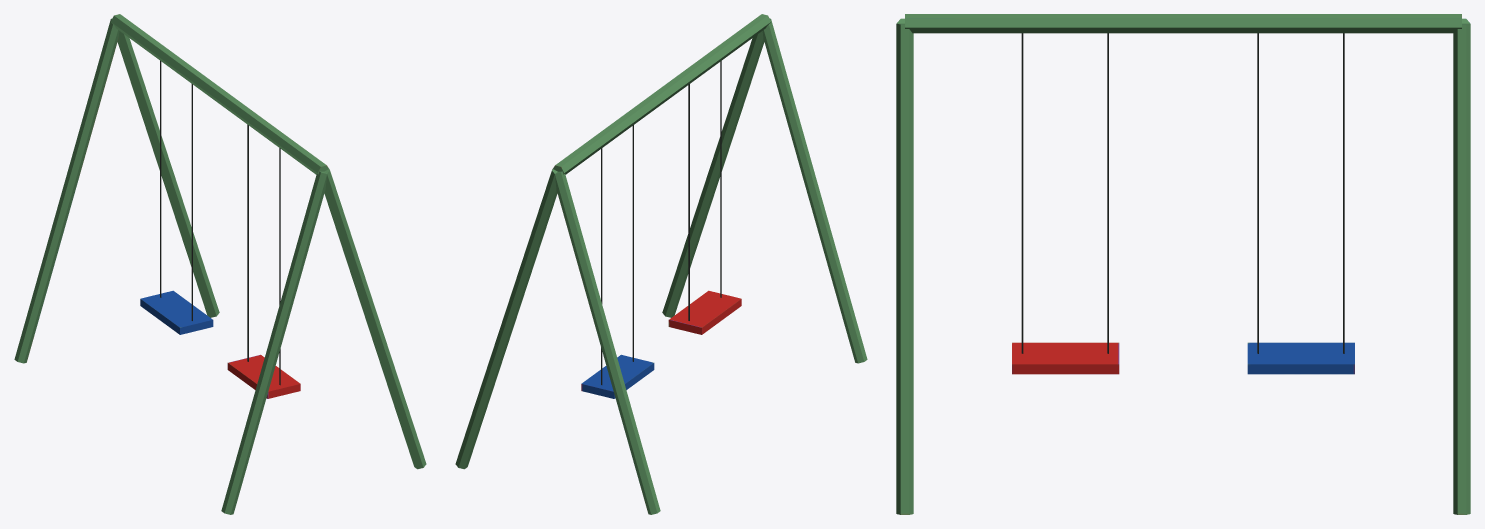
Rendered from houpacka_43f0baaf.glb.
The picture shows the model from 3 angles, left to right: view 1: azimuth 30°, elevation 25°; view 2: azimuth 150°, elevation 25°; view 3: azimuth 270°, elevation 25°; orthographic projection. The views are drawn at different scales.
Visible parts, largest first — view 1: dum; view 2: dum; view 3: dum.
Boxes of the visible parts, x1,y1,x2,y2 form: dum: (14, 14, 426, 514); dum: (455, 14, 867, 514); dum: (896, 14, 1470, 514).
Bounding box in the file's own units: 1.46 × 2.24 × 2.67.
Materials: 1 (1 with a texture image).
